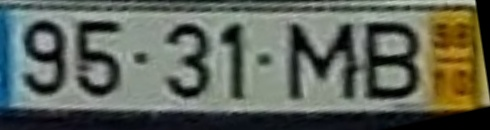1: (218, 19, 246, 104)
3: (163, 20, 211, 101)
5: (73, 18, 123, 100)
9: (21, 18, 67, 99)
B: (365, 21, 421, 101)
M: (286, 20, 358, 103)
